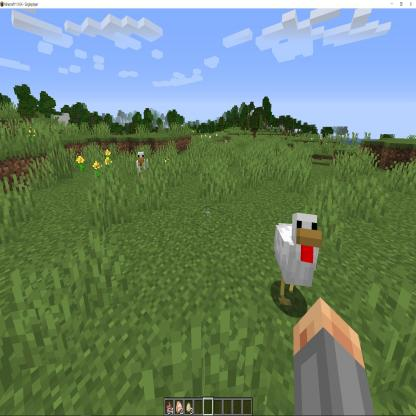minecraft-pigs: (271, 208, 322, 312), (134, 148, 151, 185)
